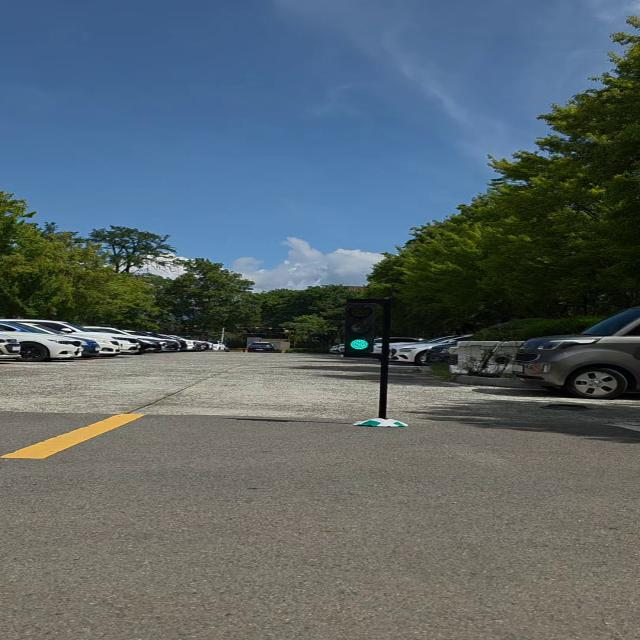green: (339, 299, 376, 355)
